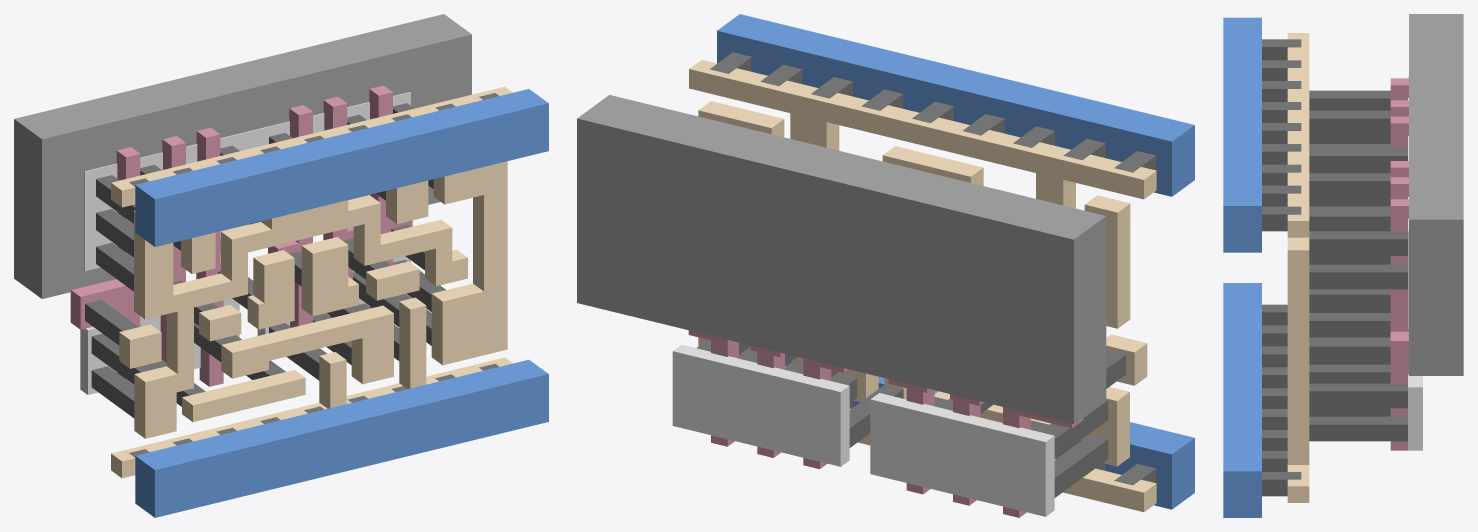
File: sky130_fd_sc_hd__o221a_1.gds.gltf
3 renders of one model, left to right at view 1: azimuth 30°, elevation 25°; view 2: azimuth 150°, elevation 25°; view 3: azimuth 270°, elevation 25°, orthographic. The views are drawn at different scales.
Visible parts, largest first — view 1: sky130_fd_sc_hd__o221a_1_li1, sky130_fd_sc_hd__o221a_1_met1, sky130_fd_sc_hd__o221a_1_nwell, sky130_fd_sc_hd__o221a_1_licon, sky130_fd_sc_hd__o221a_1_poly, sky130_fd_sc_hd__o221a_1_diff, sky130_fd_sc_hd__o221a_1_mcon; view 2: sky130_fd_sc_hd__o221a_1_nwell, sky130_fd_sc_hd__o221a_1_diff, sky130_fd_sc_hd__o221a_1_li1, sky130_fd_sc_hd__o221a_1_met1, sky130_fd_sc_hd__o221a_1_licon, sky130_fd_sc_hd__o221a_1_mcon, sky130_fd_sc_hd__o221a_1_poly; view 3: sky130_fd_sc_hd__o221a_1_licon, sky130_fd_sc_hd__o221a_1_nwell, sky130_fd_sc_hd__o221a_1_met1, sky130_fd_sc_hd__o221a_1_mcon, sky130_fd_sc_hd__o221a_1_li1, sky130_fd_sc_hd__o221a_1_poly, sky130_fd_sc_hd__o221a_1_diff.
Boxes of the visible parts, <box> form: sky130_fd_sc_hd__o221a_1_li1: <box>111,86,512,478</box>; sky130_fd_sc_hd__o221a_1_met1: <box>135,89,548,517</box>; sky130_fd_sc_hd__o221a_1_nwell: <box>14,14,471,298</box>; sky130_fd_sc_hd__o221a_1_licon: <box>85,103,445,417</box>; sky130_fd_sc_hd__o221a_1_poly: <box>70,85,412,386</box>; sky130_fd_sc_hd__o221a_1_diff: <box>80,92,410,394</box>; sky130_fd_sc_hd__o221a_1_mcon: <box>129,93,499,457</box>; sky130_fd_sc_hd__o221a_1_nwell: <box>577,95,1106,424</box>; sky130_fd_sc_hd__o221a_1_diff: <box>672,344,1054,516</box>; sky130_fd_sc_hd__o221a_1_li1: <box>689,60,1156,512</box>; sky130_fd_sc_hd__o221a_1_met1: <box>717,14,1194,509</box>; sky130_fd_sc_hd__o221a_1_licon: <box>696,339,1125,497</box>; sky130_fd_sc_hd__o221a_1_mcon: <box>710,52,1156,485</box>; sky130_fd_sc_hd__o221a_1_poly: <box>688,330,1083,517</box>; sky130_fd_sc_hd__o221a_1_licon: <box>1309,90,1407,441</box>; sky130_fd_sc_hd__o221a_1_nwell: <box>1409,14,1463,375</box>; sky130_fd_sc_hd__o221a_1_met1: <box>1223,17,1261,517</box>; sky130_fd_sc_hd__o221a_1_mcon: <box>1262,39,1301,496</box>; sky130_fd_sc_hd__o221a_1_li1: <box>1287,33,1309,502</box>; sky130_fd_sc_hd__o221a_1_poly: <box>1390,78,1408,450</box>; sky130_fd_sc_hd__o221a_1_diff: <box>1408,75,1422,450</box>.
Bounding box in the file's own units: 4.52 × 3.2 × 2.24.
